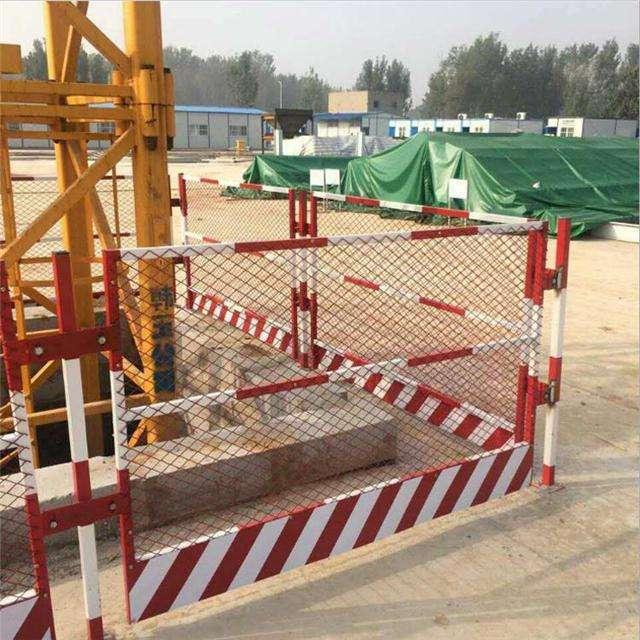sign: (1, 222, 572, 587)
